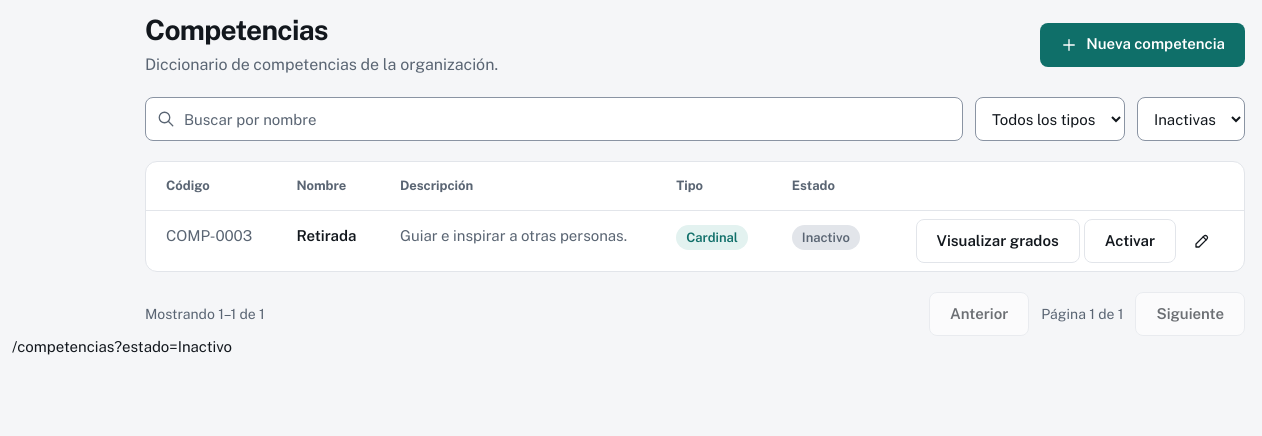
it: CompetenciasPage (activar y desactivar) › activar actúa de inmediato, sin diálogo de confirmación
The image size is (1262, 436).
What coordinates should you click on to do the following:
click the button with aria-label "Activar Retirada"
I would click on:
 (1130, 240)
Its box is [1084,218,1176,262].
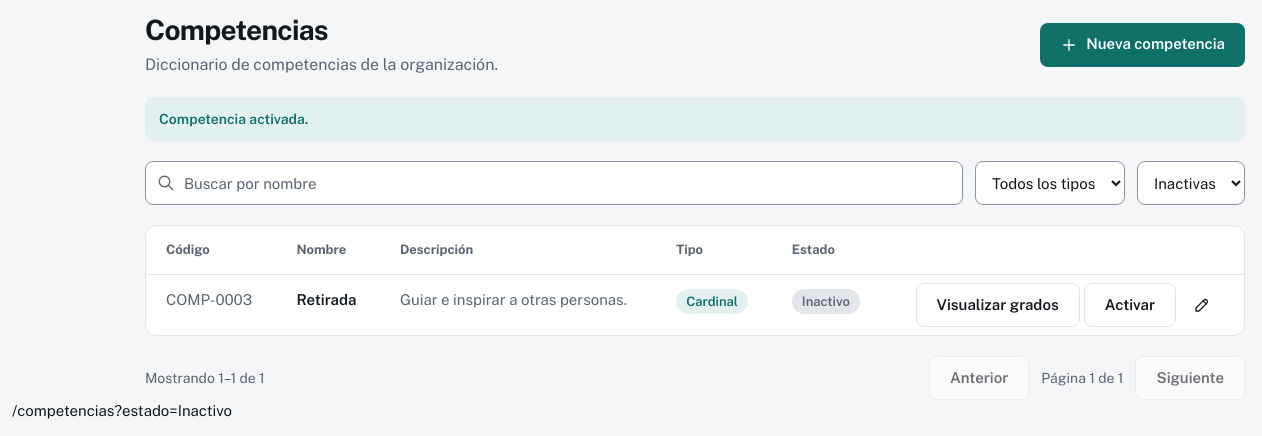
expect the text "Competencia activada." is shown: met, box [145,97,1245,141]
